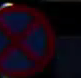No Stopping: (0, 4, 56, 77)
